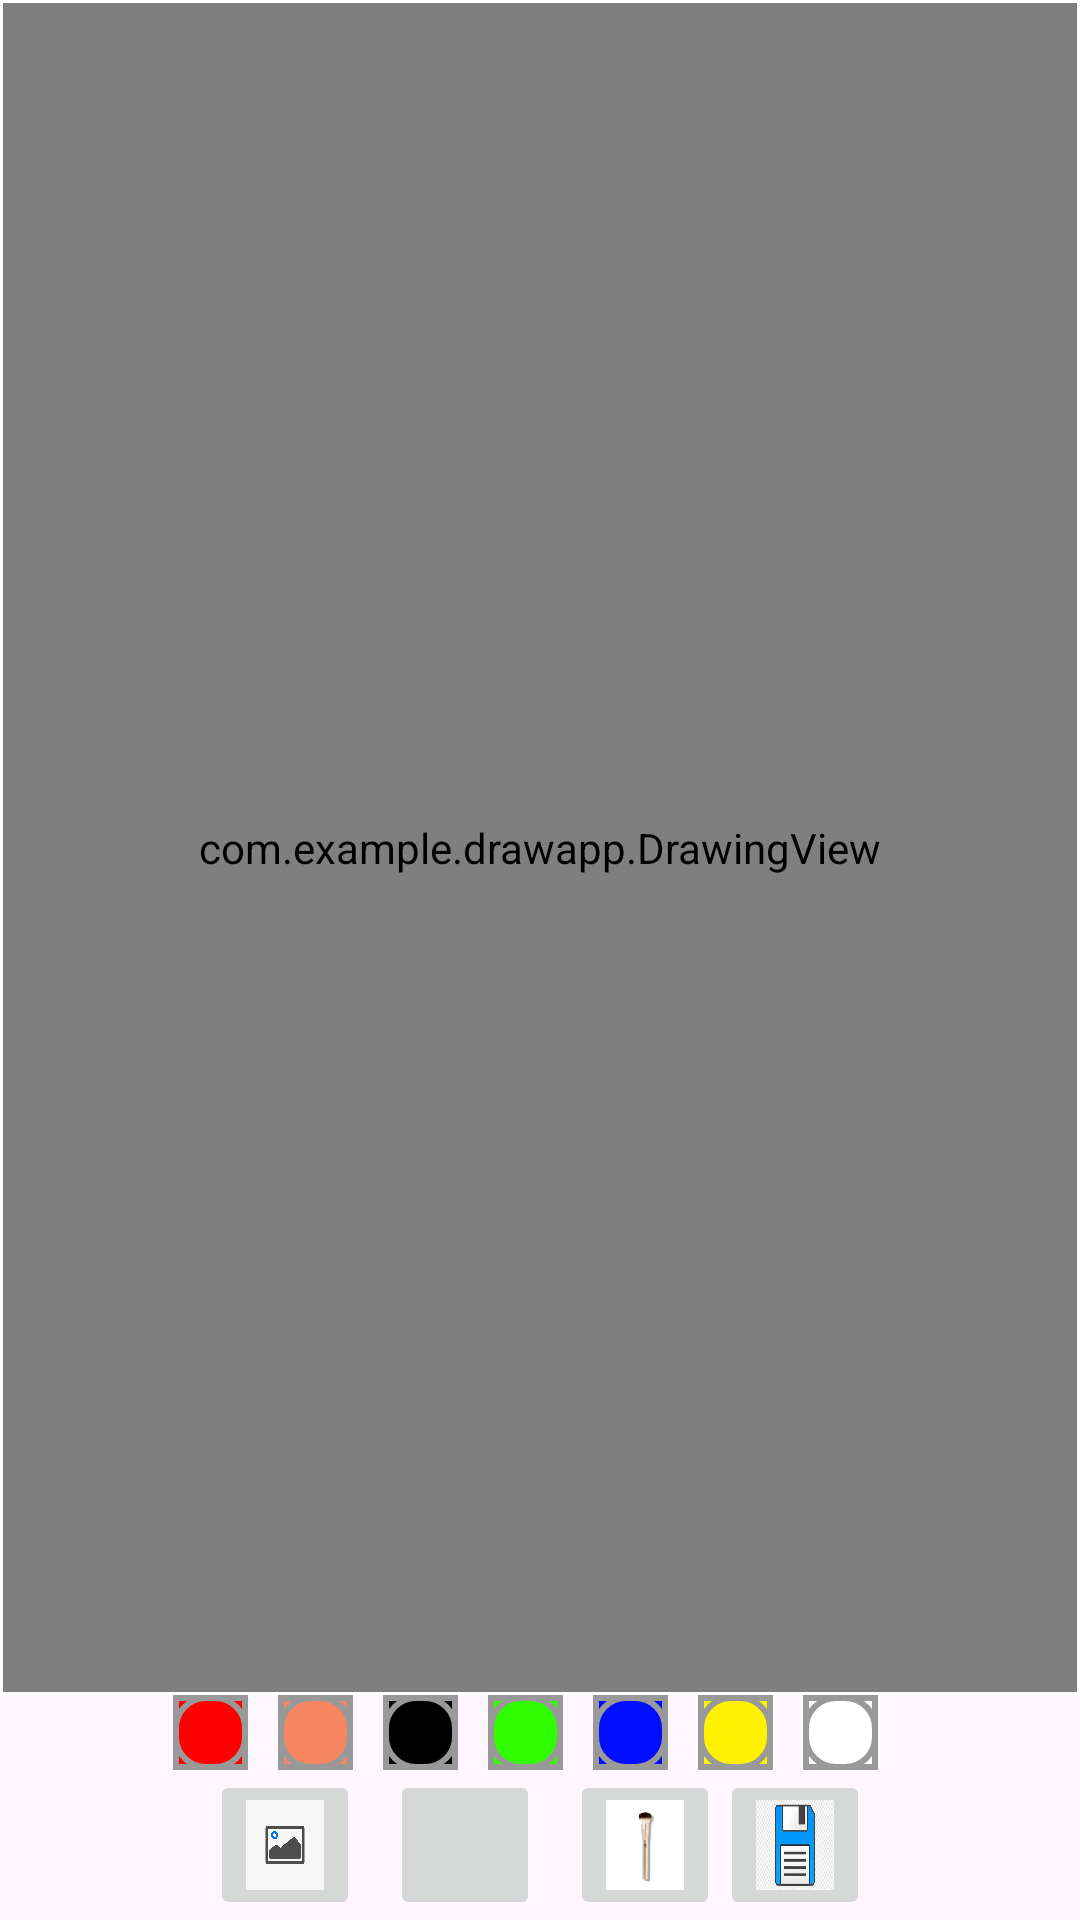

Icon click points for this 1080 × 1920 phone screenshot, format (x=x, y=y):
brush: (x=645, y=1845)
gallery: (x=285, y=1845)
save: (x=795, y=1845)
